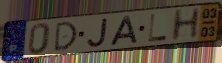0: (27, 22, 53, 56)
A: (108, 14, 140, 47)
D: (53, 20, 79, 53)
H: (170, 6, 202, 43)
J: (86, 16, 110, 48)
L: (147, 12, 169, 43)
